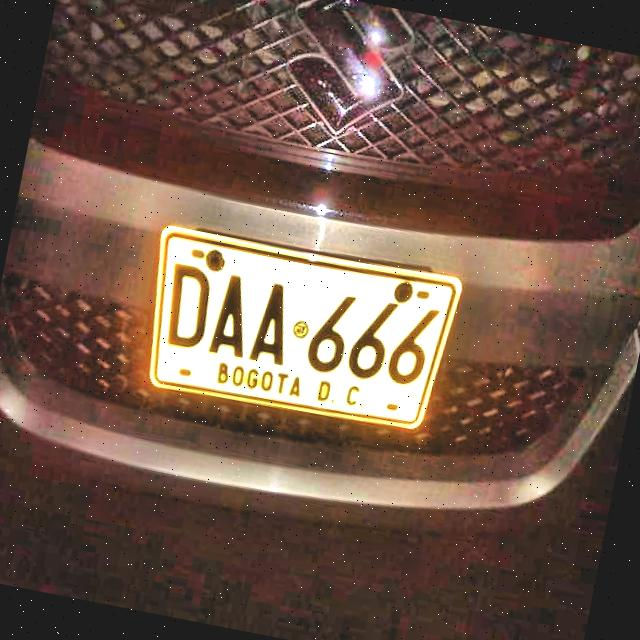plate: (154, 232, 458, 425)
